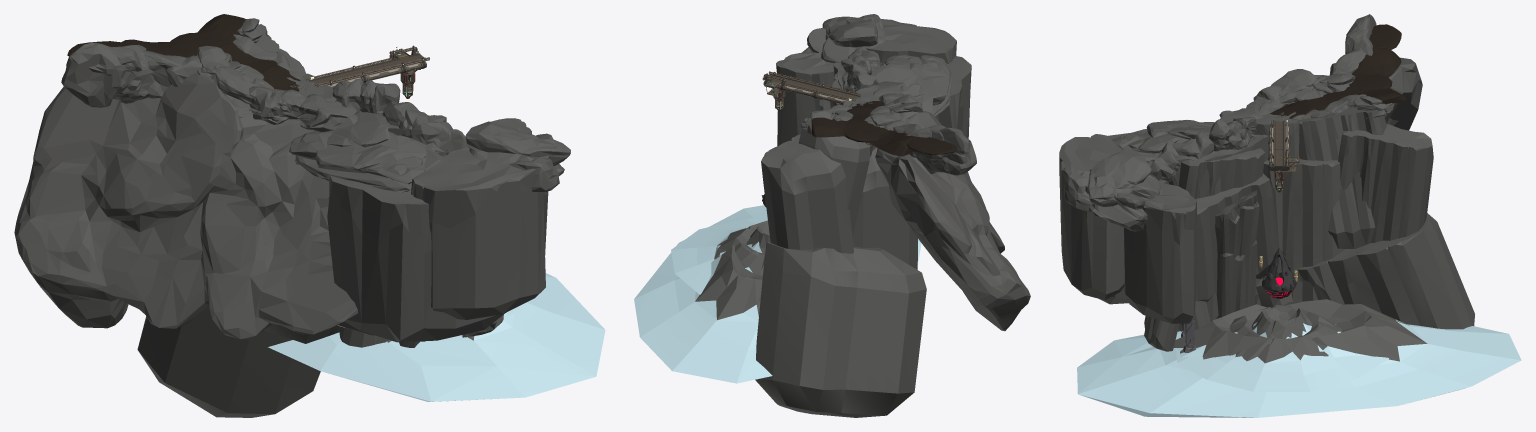
The picture shows the model from 3 angles, left to right: view 1: azimuth 30°, elevation 25°; view 2: azimuth 150°, elevation 25°; view 3: azimuth 270°, elevation 25°; orthographic projection. The views are drawn at different scales.
Parts seen in each view (by area): view 1: chunk_q01; view 2: chunk_q01; view 3: chunk_q01.
Boxes of the visible parts, bbox=[...] form: chunk_q01: bbox=[14, 14, 605, 417]; chunk_q01: bbox=[634, 14, 1030, 417]; chunk_q01: bbox=[1059, 14, 1521, 417].
Size of the model in its own units: 48.34 by 37.69 by 48.19.
4 materials, 3 textured.
